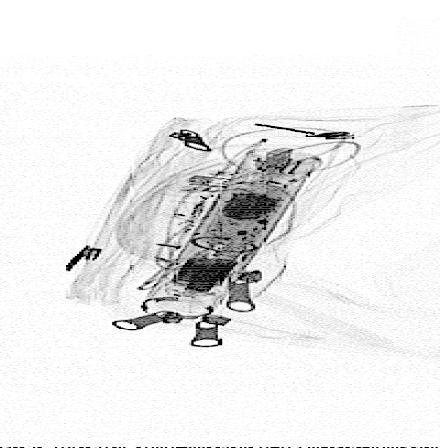Baton: (139, 146, 323, 322)
